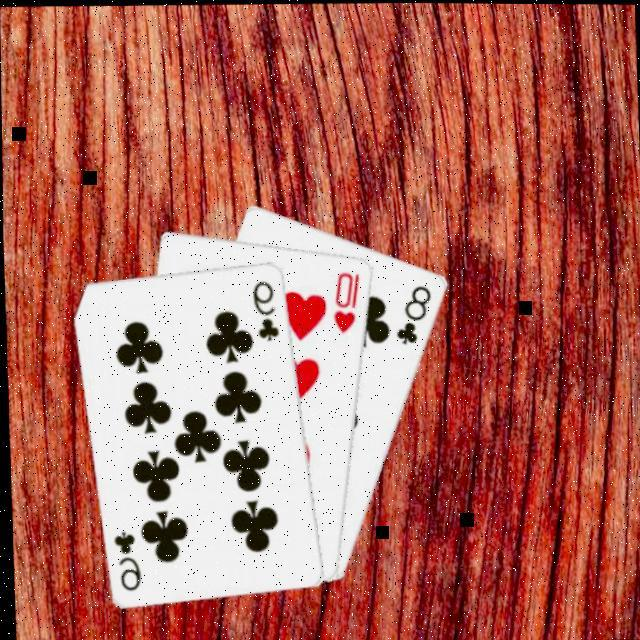10H: (328, 264, 364, 334)
8C: (391, 278, 436, 345)
9C: (109, 524, 144, 590), (249, 273, 282, 342)
